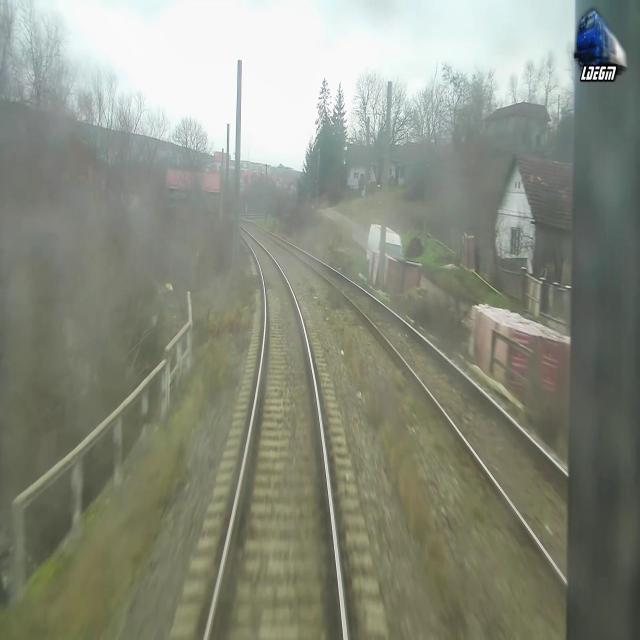rail-track: (253, 225, 640, 639), (207, 225, 343, 639)
